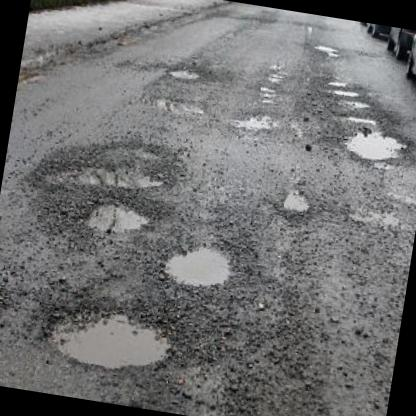pothole: (37, 290, 180, 378), (36, 129, 180, 201), (154, 231, 238, 294), (70, 187, 156, 241), (340, 122, 410, 165), (278, 186, 314, 214), (164, 64, 201, 82), (312, 40, 340, 58), (330, 83, 361, 97), (338, 95, 370, 107)
